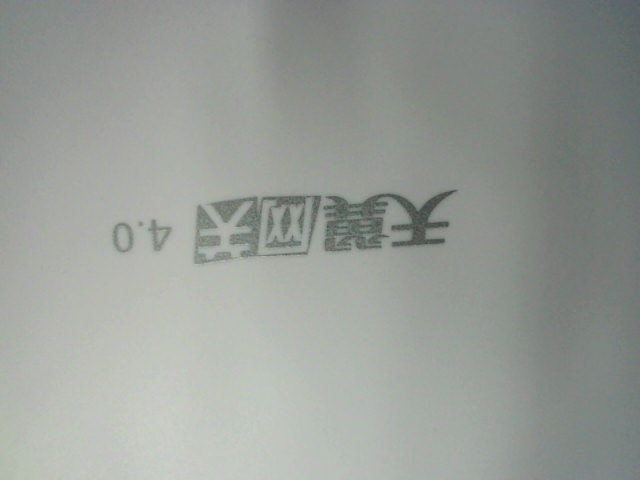BM_TianYiWangGuan: (94, 177, 466, 275)
